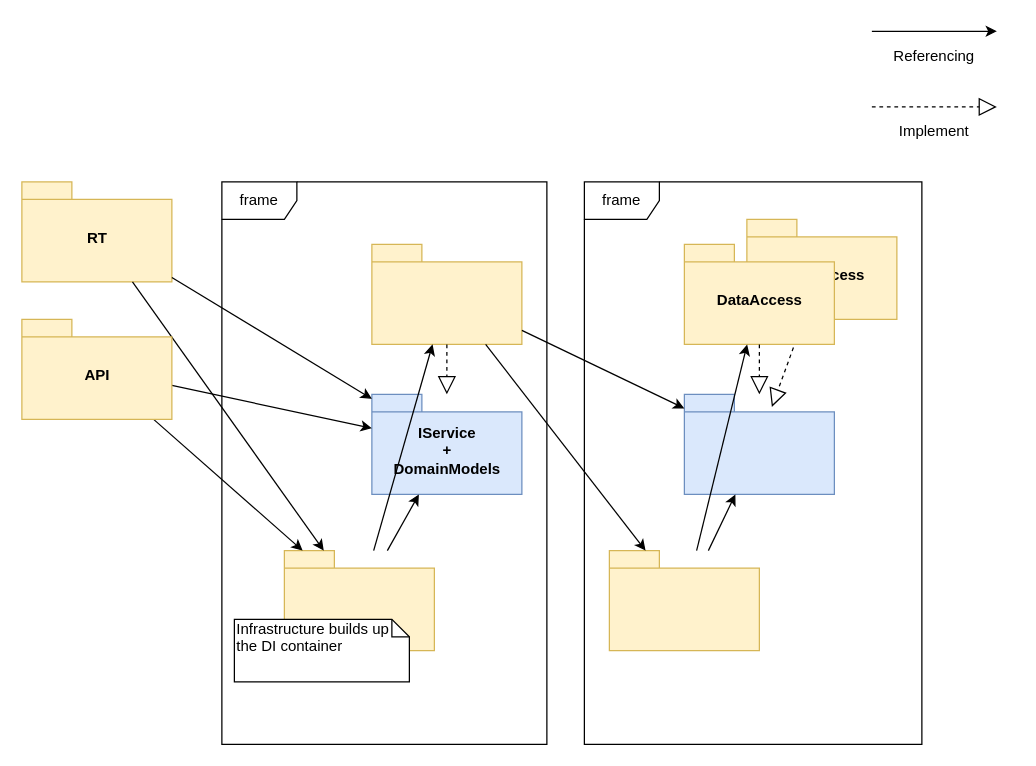
The diagram is 1036 pixels wide and 766 high, and some of its shapes have lost their labels. The box of each missing label's shape, as (x1, y1, x2, y2) in pixels:
DalInfrasructure: (608, 549, 759, 651)
IDataAccess + SchemaModels: (683, 393, 834, 494)
Service: (371, 243, 522, 344)
ServiceInfrastructure: (283, 549, 434, 651)
